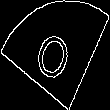O_SW: (31, 21, 79, 89)
